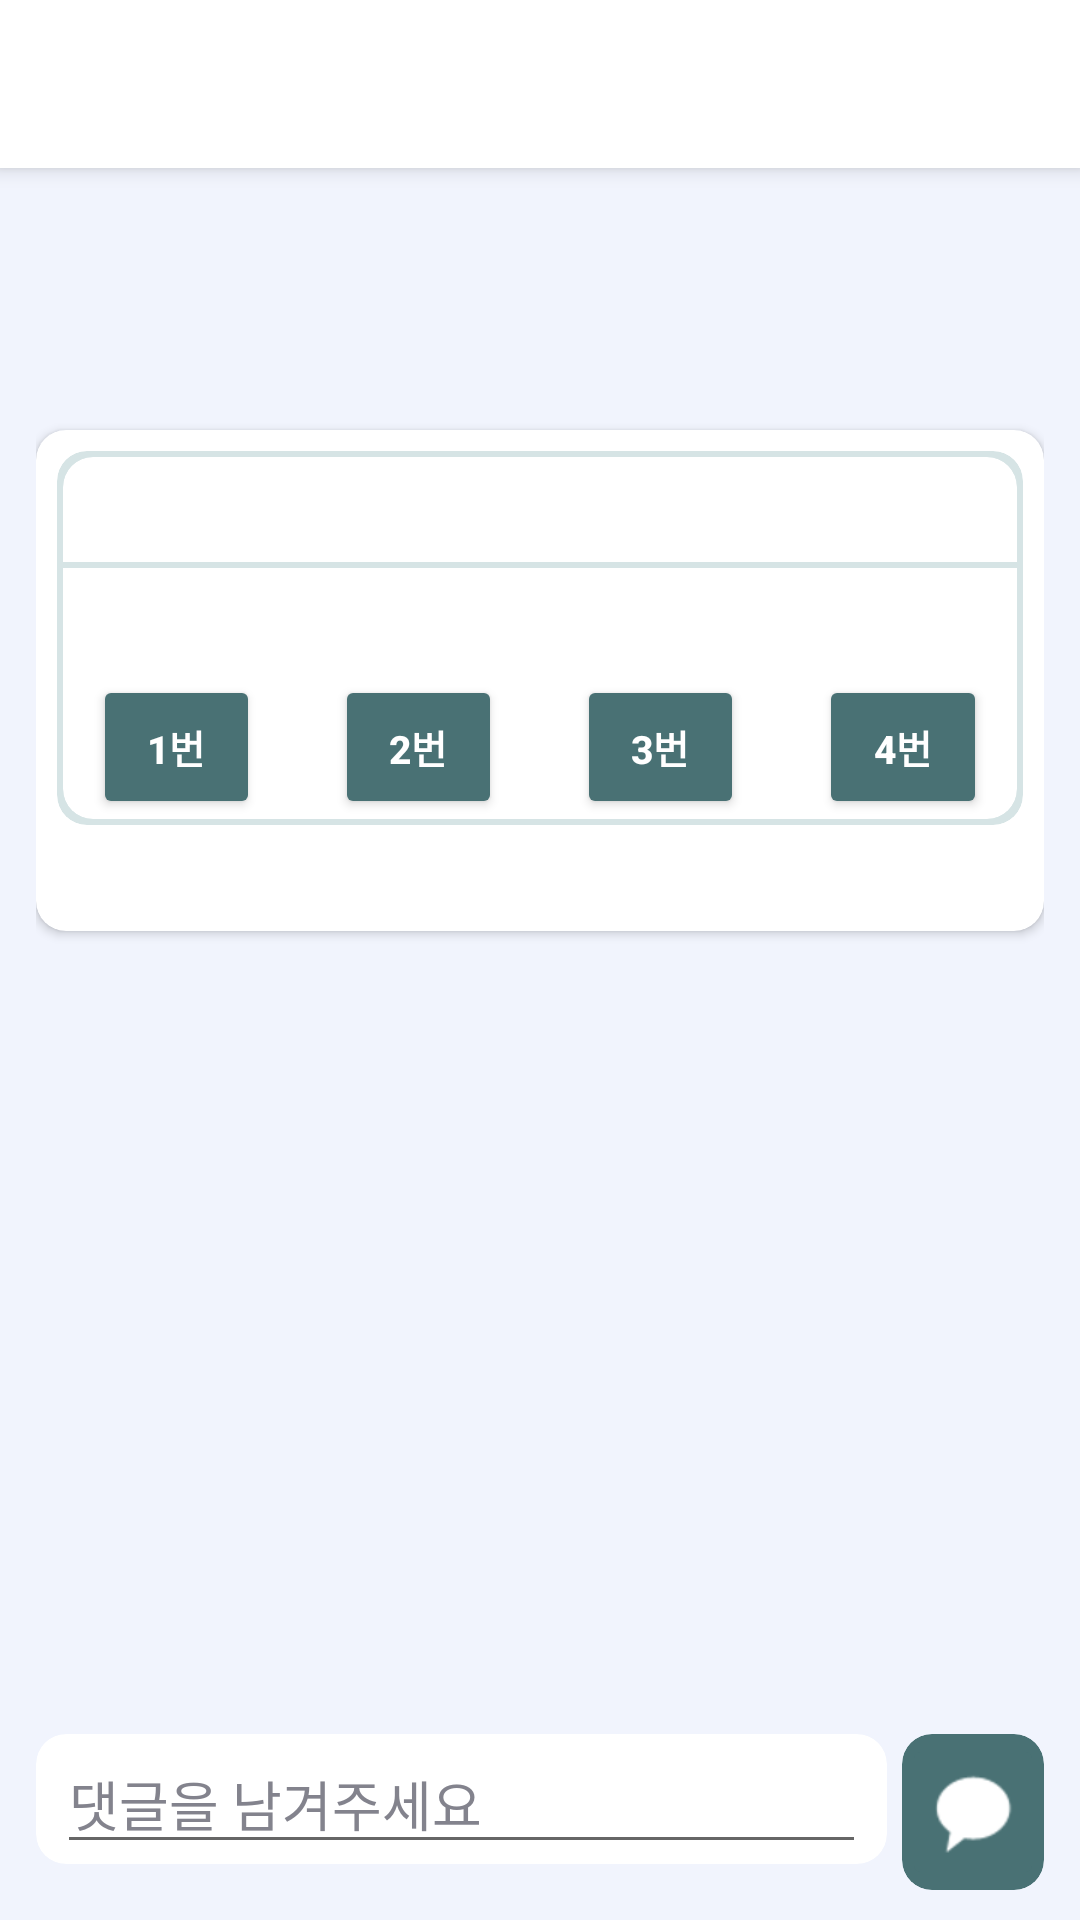

Screen size 1080*1920. Icon name, then its box in pixels as (left=x1, top=y1, right=x2, bottom=y2):
sym action chat: (left=902, top=1734, right=1044, bottom=1890)
